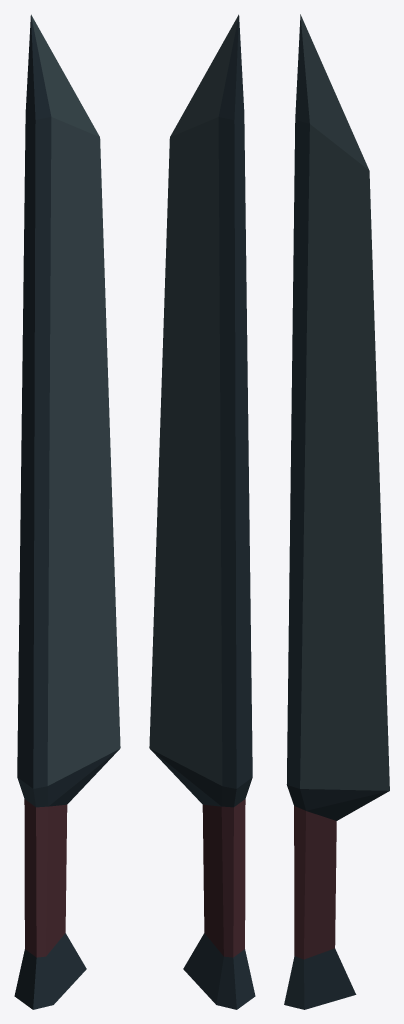
File: lord_sword.fbx
The picture shows the model from 3 angles, left to right: view 1: azimuth 30°, elevation 25°; view 2: azimuth 150°, elevation 25°; view 3: azimuth 330°, elevation 25°; orthographic projection.
Visible parts, largest first — view 1: LordSword; view 2: LordSword; view 3: LordSword.
Part boxes in pixels (box(x1,y1,x2,y2)): LordSword: box(14, 14, 120, 1009); LordSword: box(149, 14, 255, 1009); LordSword: box(284, 14, 389, 1009).
Bounding box in the file's own units: 124 × 1210 × 41.45.
